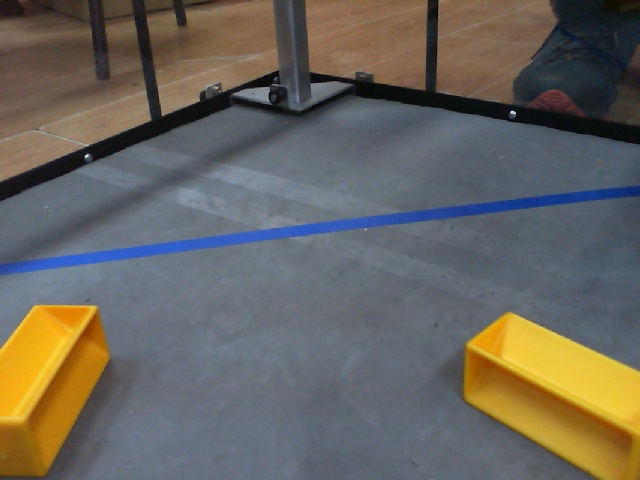YellowSample: (456, 304, 640, 480), (1, 296, 112, 480)
